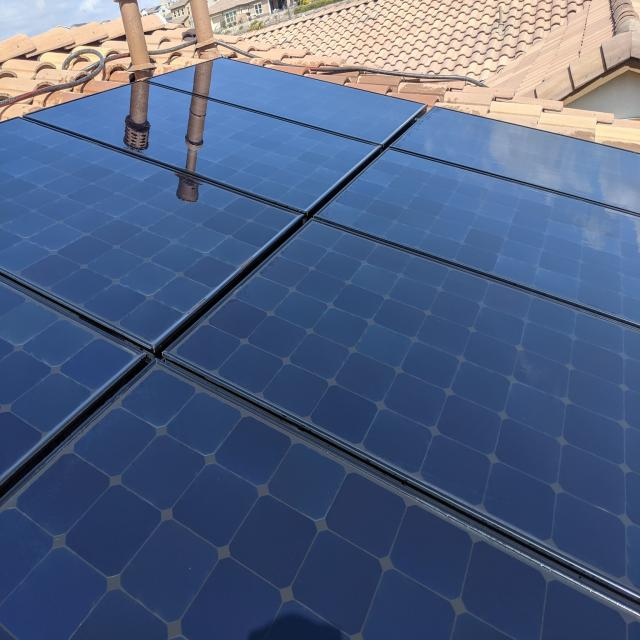clean-solar-panel: (0, 60, 640, 638)
